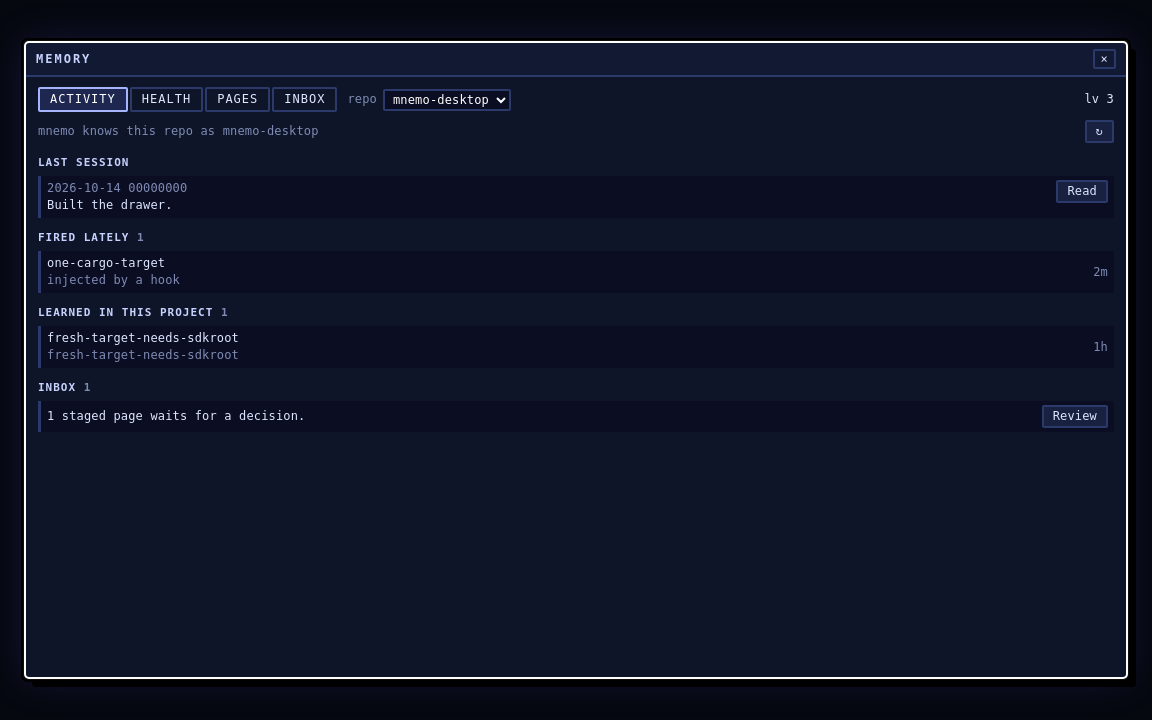
it: picking another repo reads it, and a failed read says why
Select "mnemo" in the dropdown named "Repo" at (447,100), box [383, 89, 511, 111]
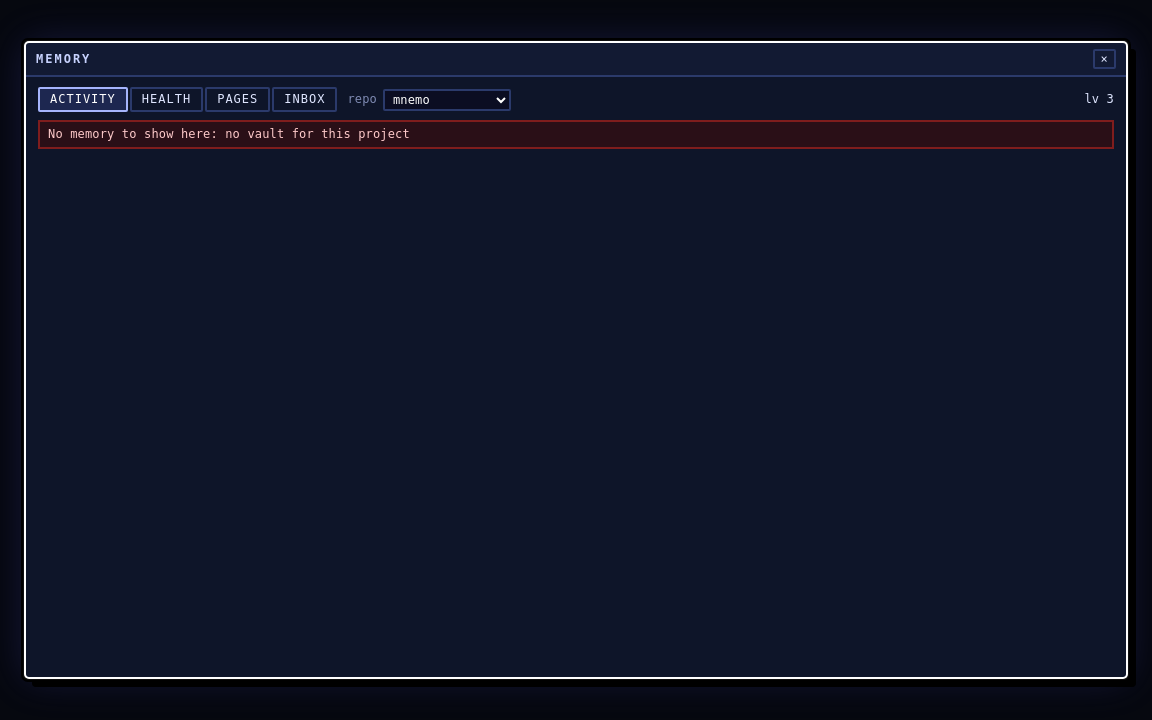
Expected: the message "No memory to show here: no vault for this project" is shown, [38, 120, 1114, 149]
